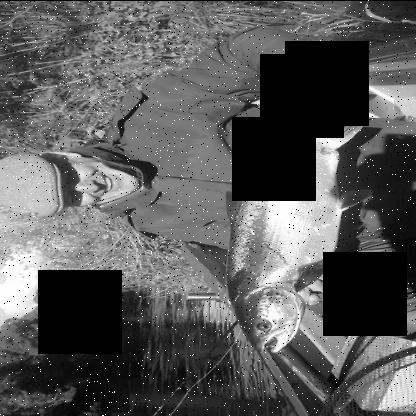fish: (221, 88, 376, 352)
